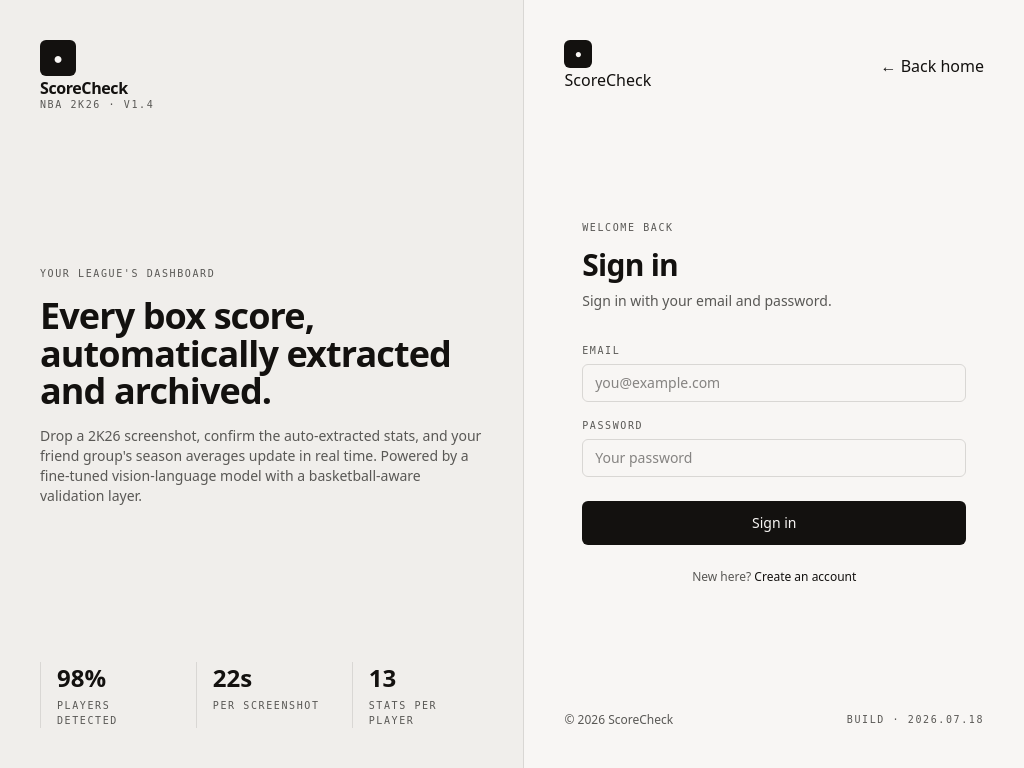
Test: signup mode › asks for a name and an invite code
Click the button "Create an account". click: (805, 576)
box: [754, 568, 856, 584]
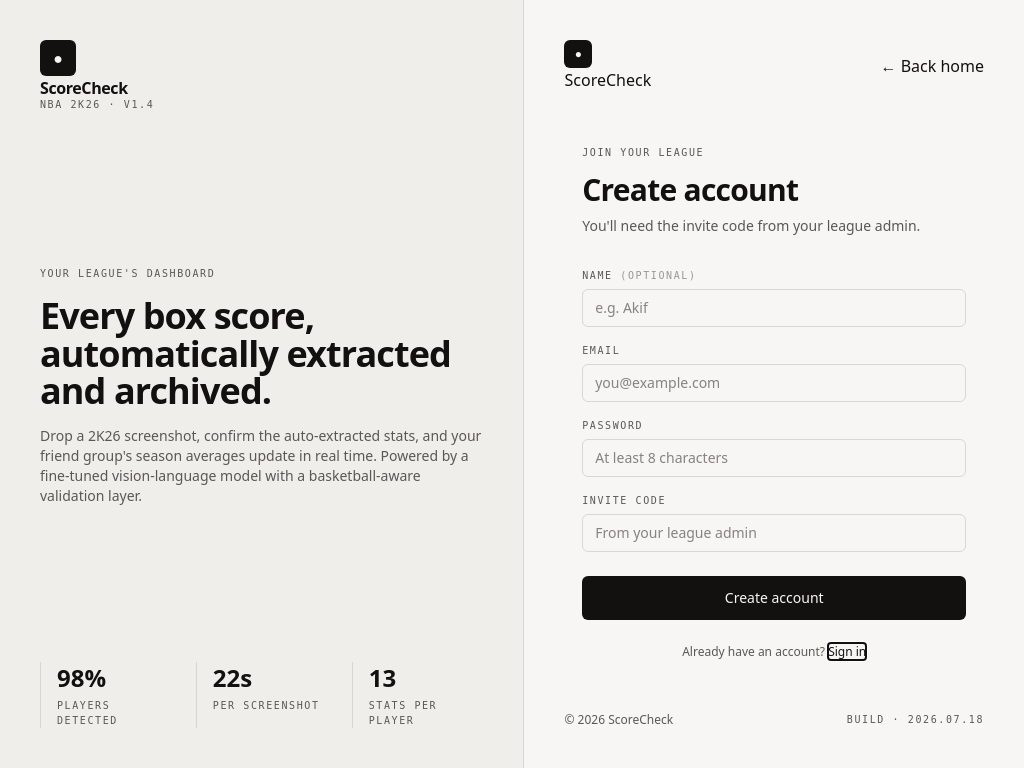
Check: the field labelled "Name (optional)" is shown, box [582, 288, 966, 326]
Check: the field labelled "Invite code" is shown, box [582, 514, 966, 552]
